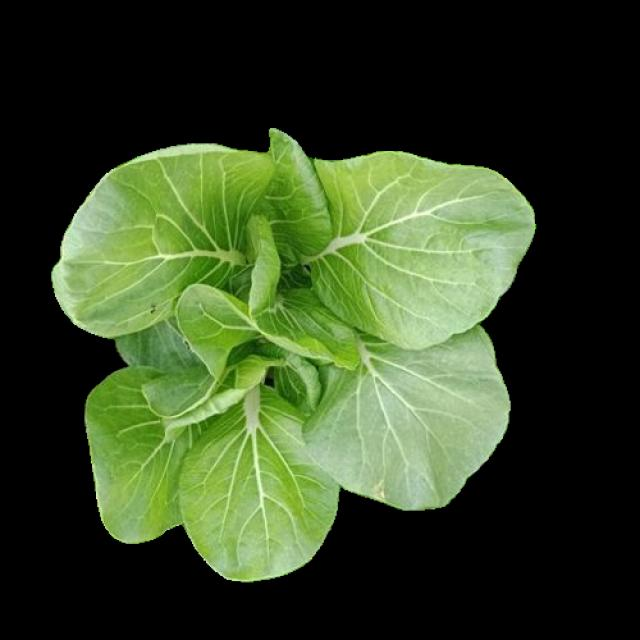healthy: (50, 127, 531, 577)
mature: (52, 129, 534, 580)
